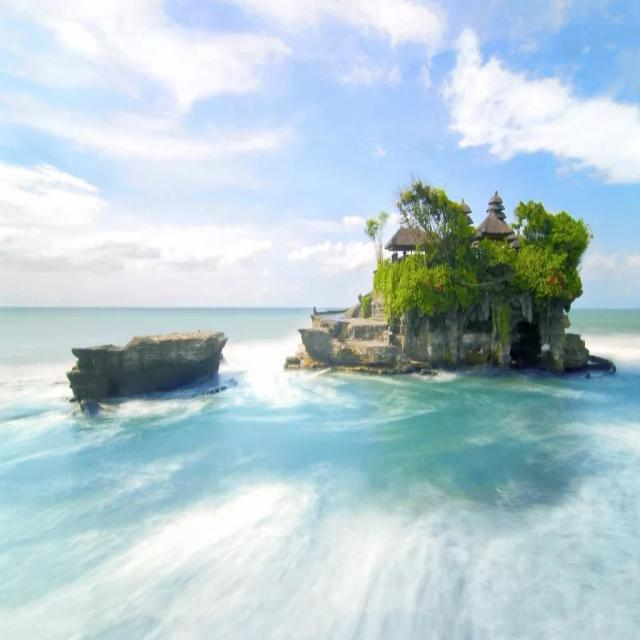reef: (56, 300, 258, 425)
